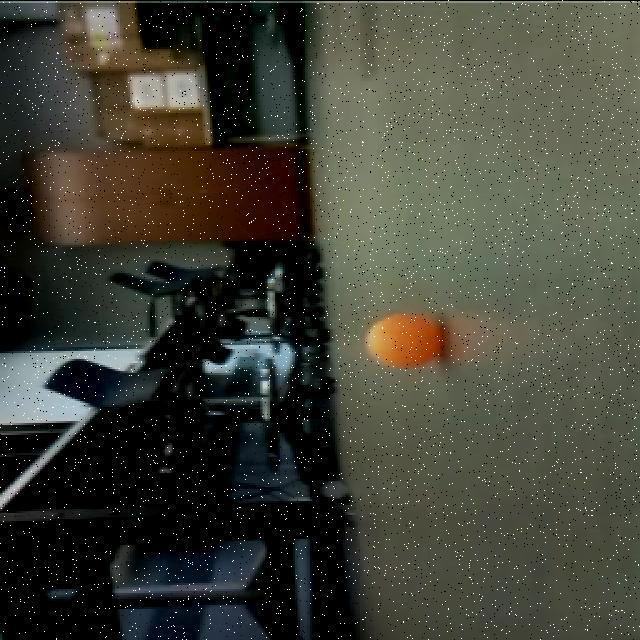ping-pong-ball: (360, 308, 450, 370)
